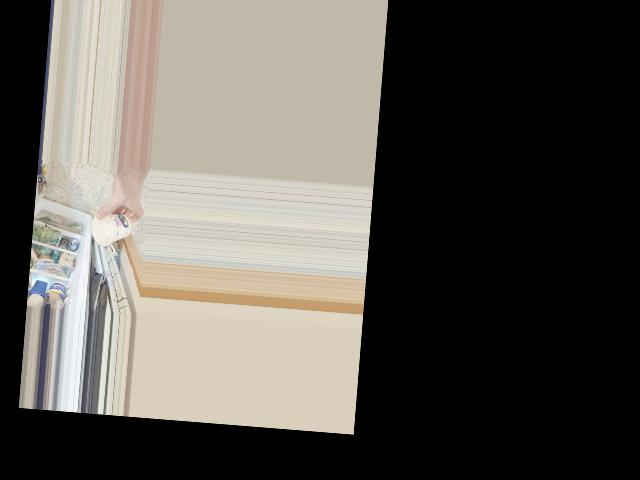cotage: (94, 212, 128, 250)
